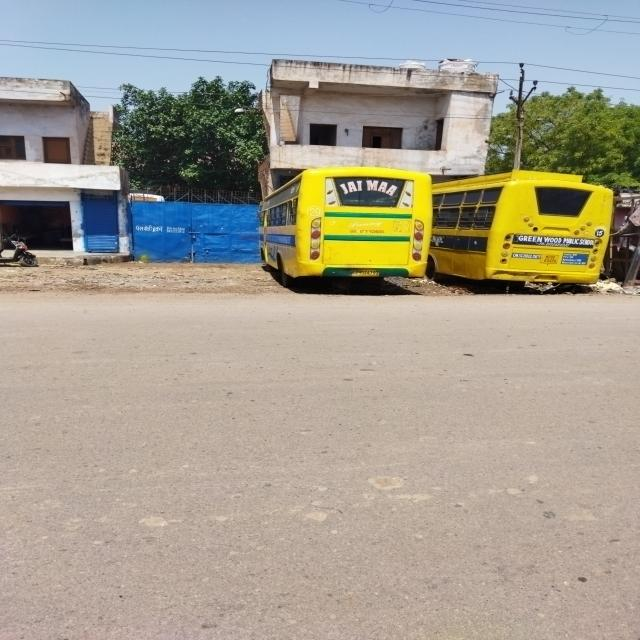Bus: (262, 166, 613, 286)
